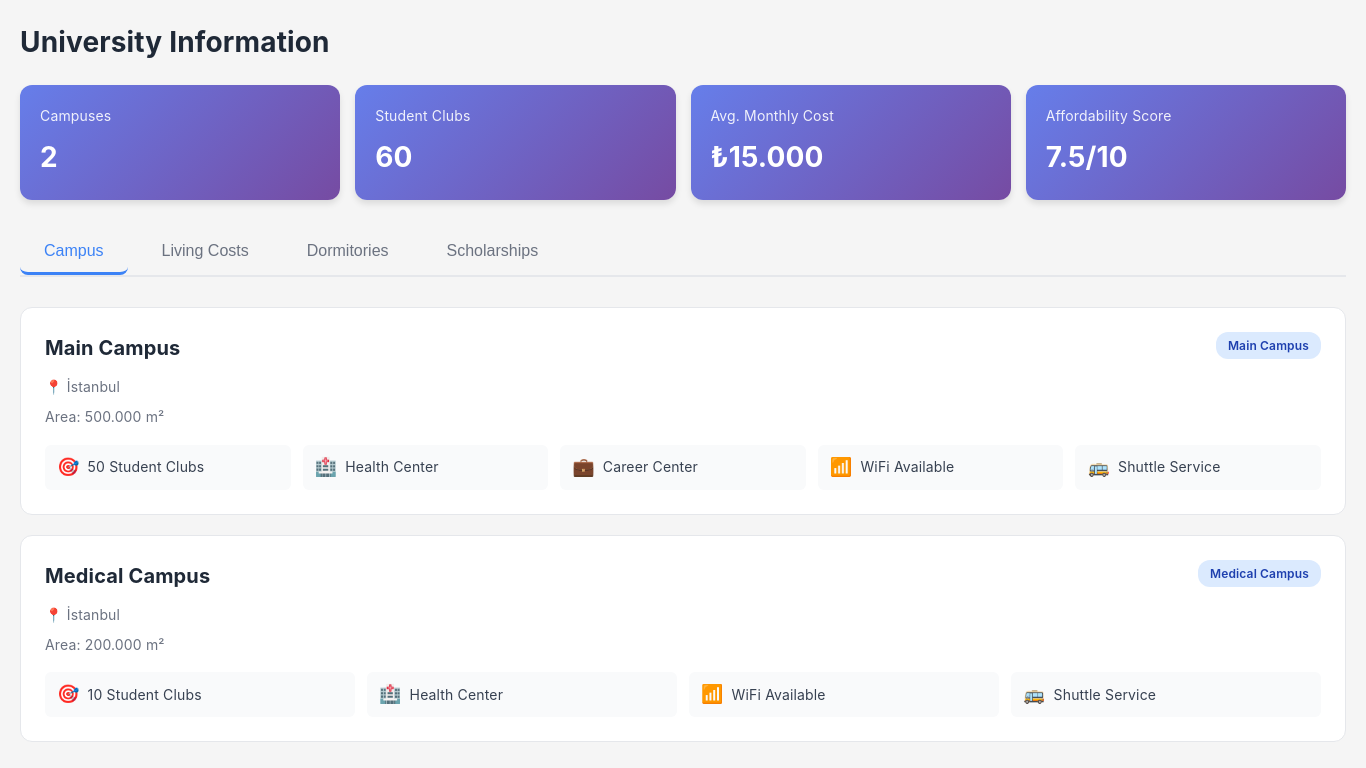
Test: UniversityInfo - Dormitory Tab › shows empty state when no dormitories
The image size is (1366, 768).
Click the button "Dormitories" at point(348, 252), box [283, 230, 412, 275]
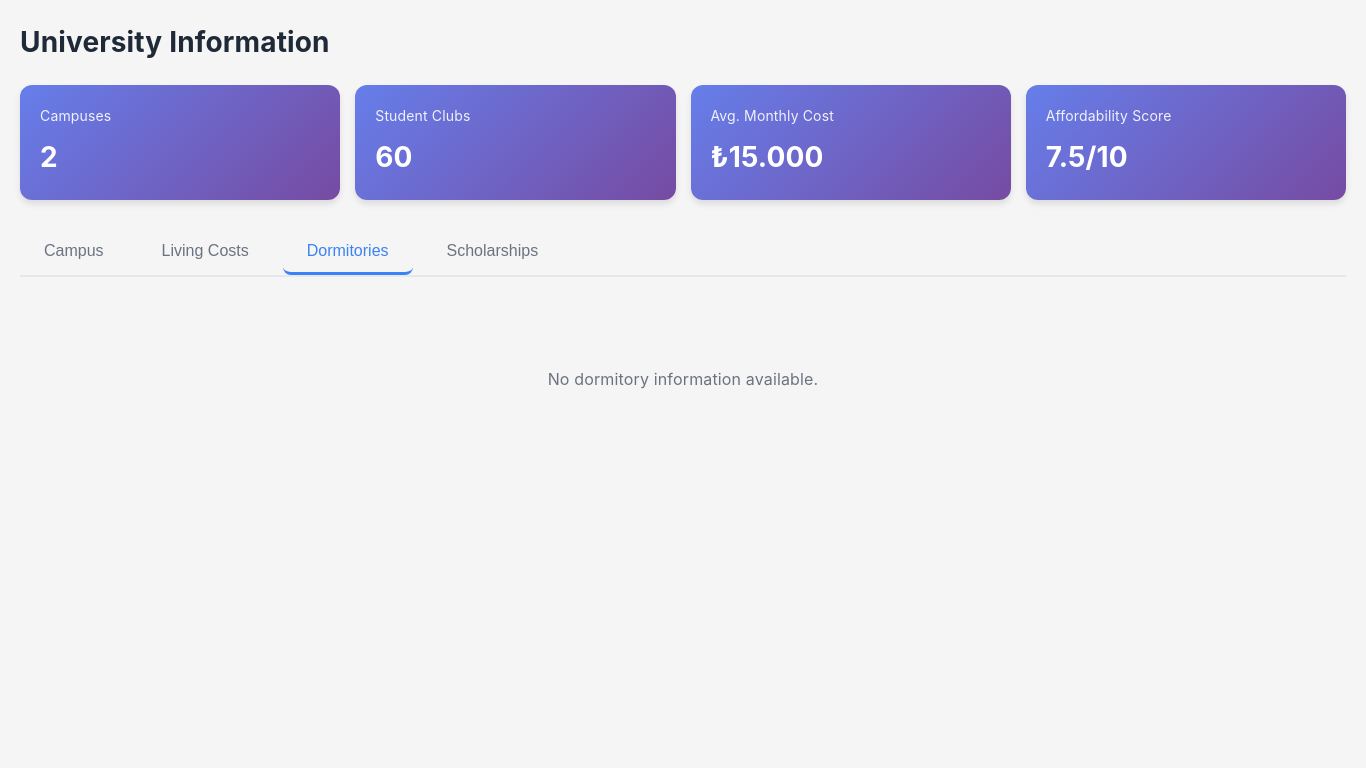
expect the text "No dormitory information available." is shown: met, box [548, 369, 818, 389]
